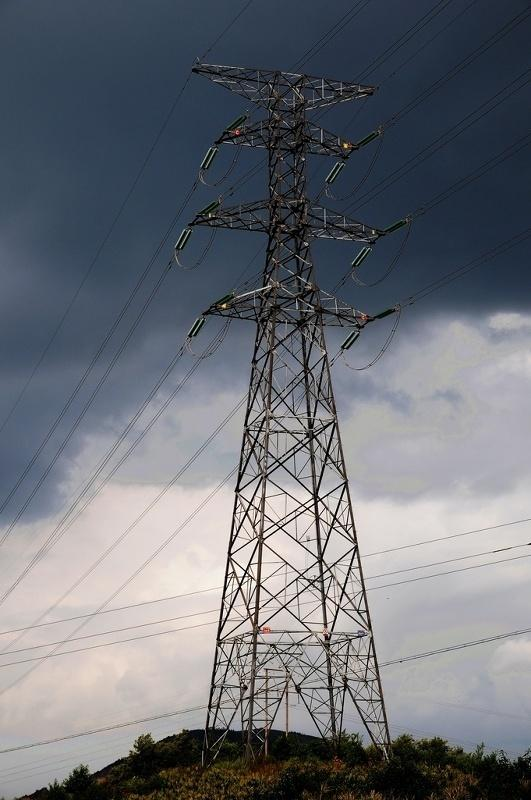power_tower: (174, 54, 425, 735)
